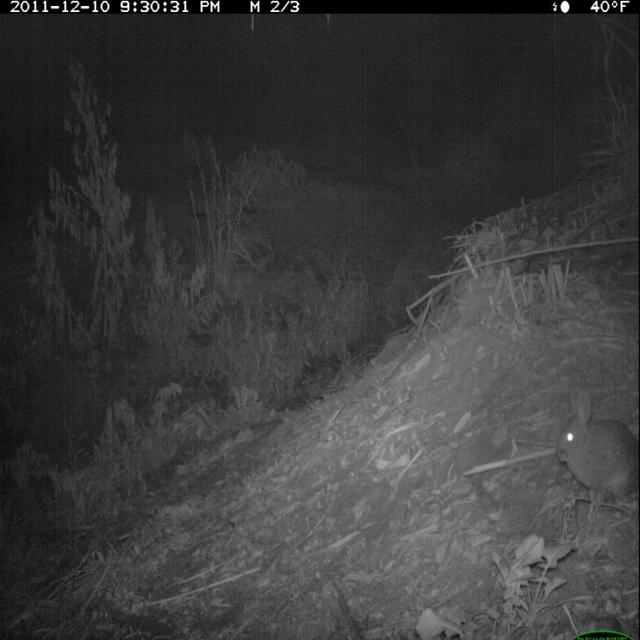rabbit: (552, 388, 640, 523)
